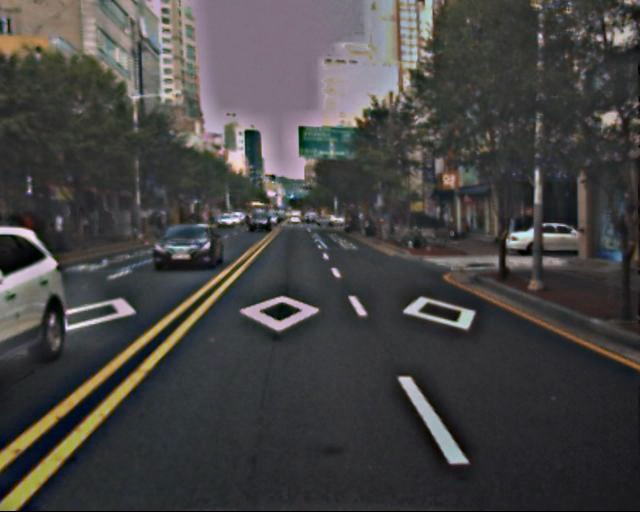person: (50, 212, 67, 254)
